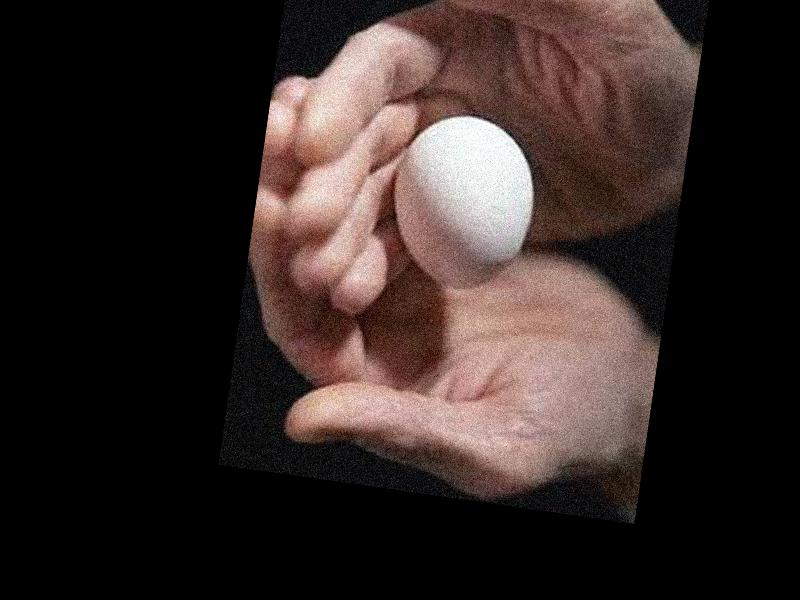Eggs: (383, 106, 545, 296)
